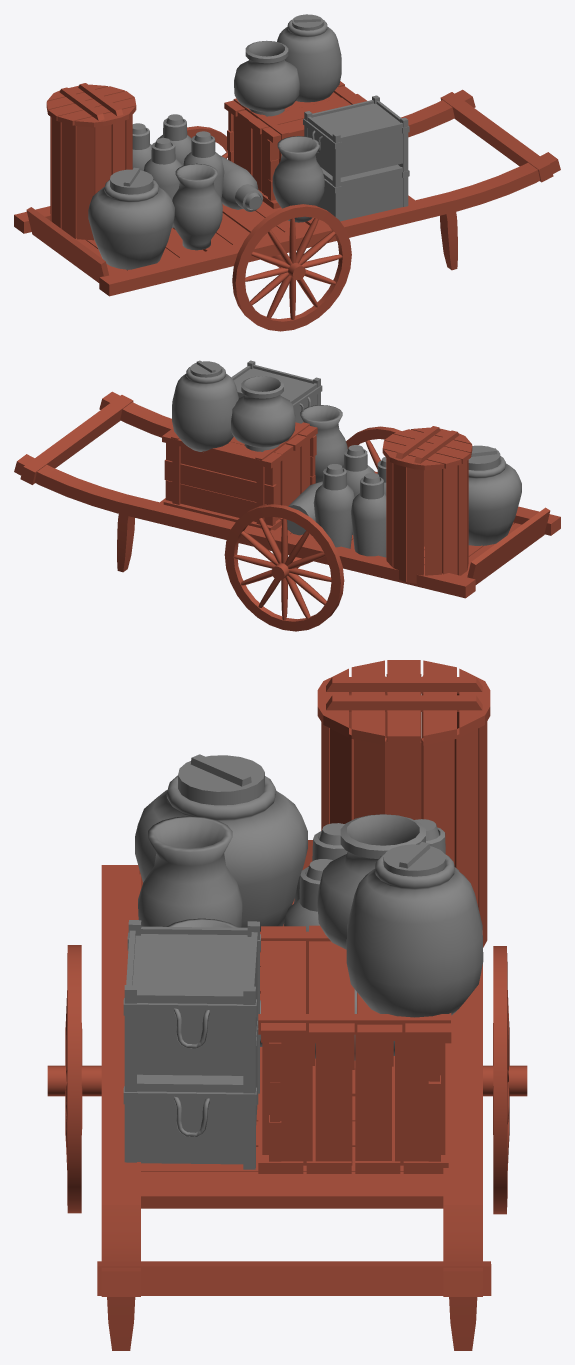
File: SM_cart_wares_03.fbx
3 views of the same model, one above another, from view 1: azimuth 30°, elevation 25°; view 2: azimuth 150°, elevation 25°; view 3: azimuth 270°, elevation 25° (orthographic). The views are drawn at different scales.
Visible parts, largest first — view 1: Object32441; view 2: Object32441; view 3: Object32441.
Boxes of the visible parts, <box> form: Object32441: <box>14,14,560,331</box>; Object32441: <box>14,360,560,631</box>; Object32441: <box>47,660,527,1350</box>.
Size of the model in its own units: 165 by 77.73 by 75.74.
